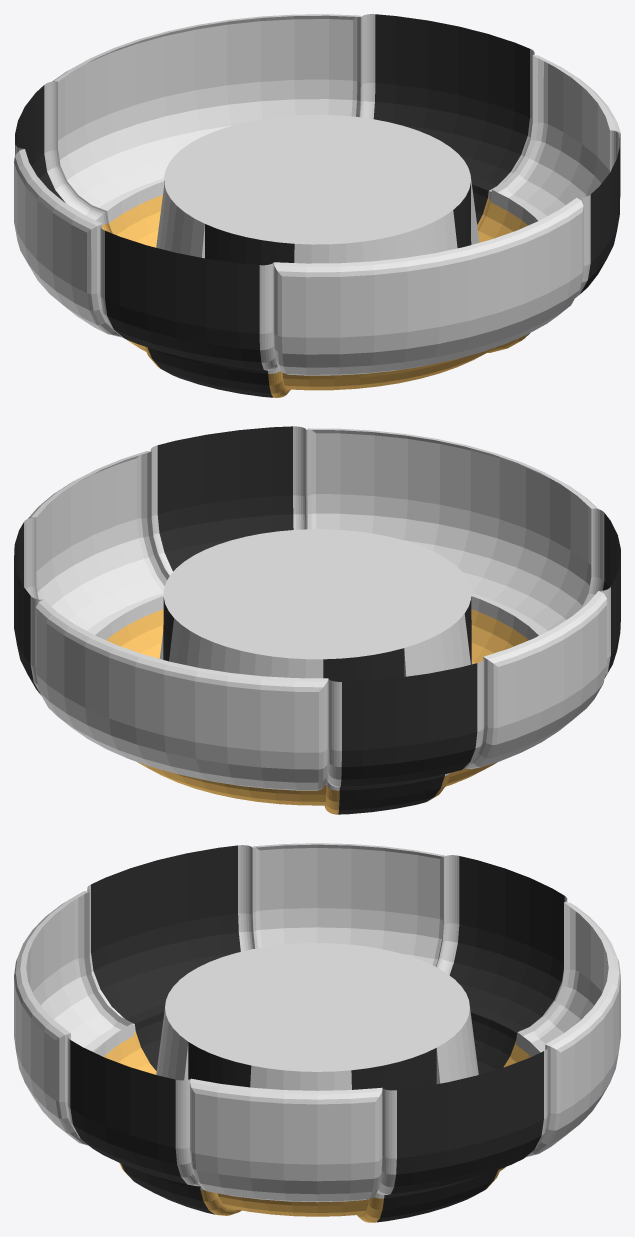
File: SpiderTO.glb
3 renders of one model, top to bottom at view 1: azimuth 30°, elevation 25°; view 2: azimuth 150°, elevation 25°; view 3: azimuth 270°, elevation 25°, orthographic.
Visible parts, largest first — view 1: spiderSpaceship.005, spiderSpaceship.001, spiderSpaceship.002; view 2: spiderSpaceship.005, spiderSpaceship.001, spiderSpaceship.002; view 3: spiderSpaceship.005, spiderSpaceship.001, spiderSpaceship.002.
Part boxes in pixels (bbox=[...]): spiderSpaceship.005: bbox=[14, 14, 620, 375]; spiderSpaceship.001: bbox=[15, 14, 619, 397]; spiderSpaceship.002: bbox=[102, 195, 528, 397]; spiderSpaceship.005: bbox=[24, 426, 610, 790]; spiderSpaceship.001: bbox=[14, 426, 620, 814]; spiderSpaceship.002: bbox=[106, 609, 528, 814]; spiderSpaceship.005: bbox=[14, 843, 620, 1202]; spiderSpaceship.001: bbox=[70, 845, 564, 1222]; spiderSpaceship.002: bbox=[104, 1031, 530, 1222].
Size of the model in its own units: 2.23 by 0.7397 by 2.23.
